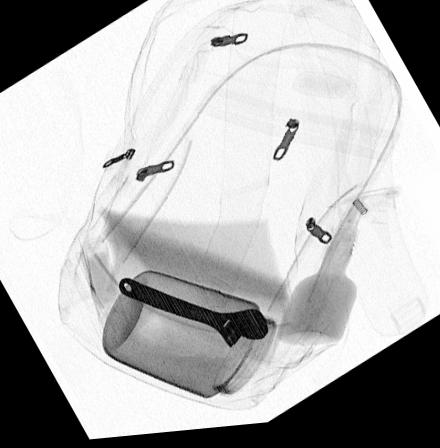Wrench: (117, 277, 271, 353)
